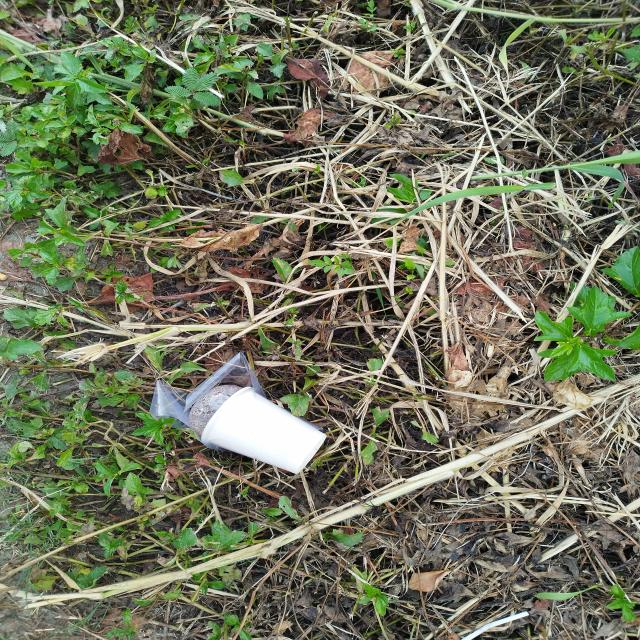plastic glass: (188, 384, 327, 473)
